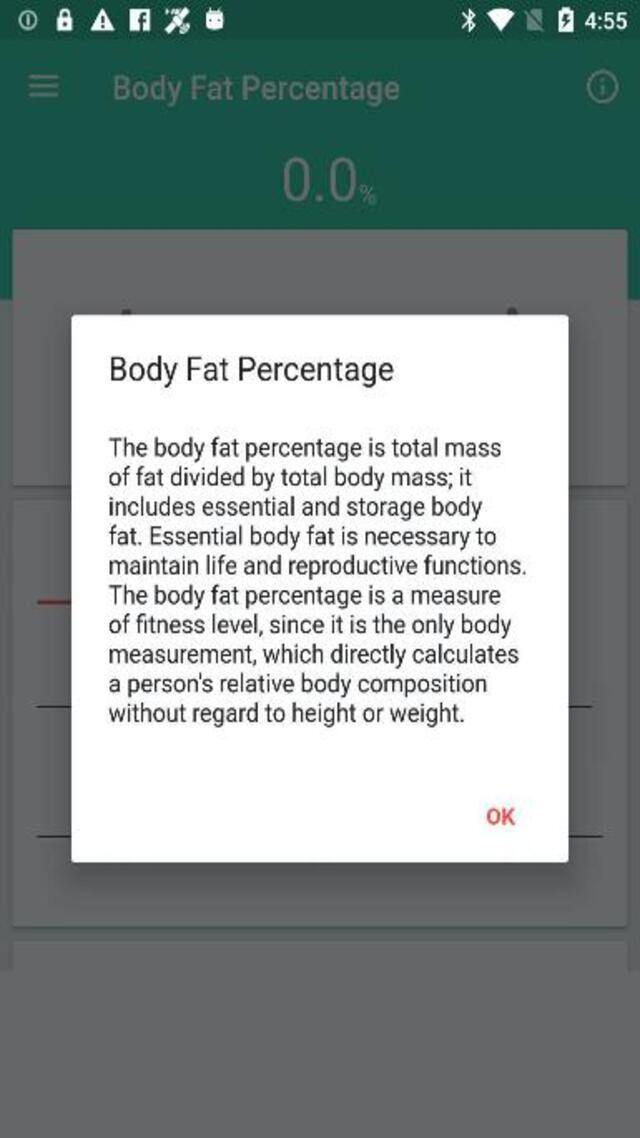Icon: (586, 69, 618, 105), (28, 76, 58, 98)
Text: (105, 611, 514, 641), (103, 522, 500, 552), (105, 640, 522, 668), (106, 670, 492, 700), (104, 492, 486, 522), (105, 583, 502, 611), (104, 435, 500, 463), (106, 555, 530, 581), (105, 463, 477, 492), (106, 700, 467, 729), (110, 354, 394, 388), (112, 78, 400, 108), (282, 157, 376, 206), (487, 807, 517, 825)
